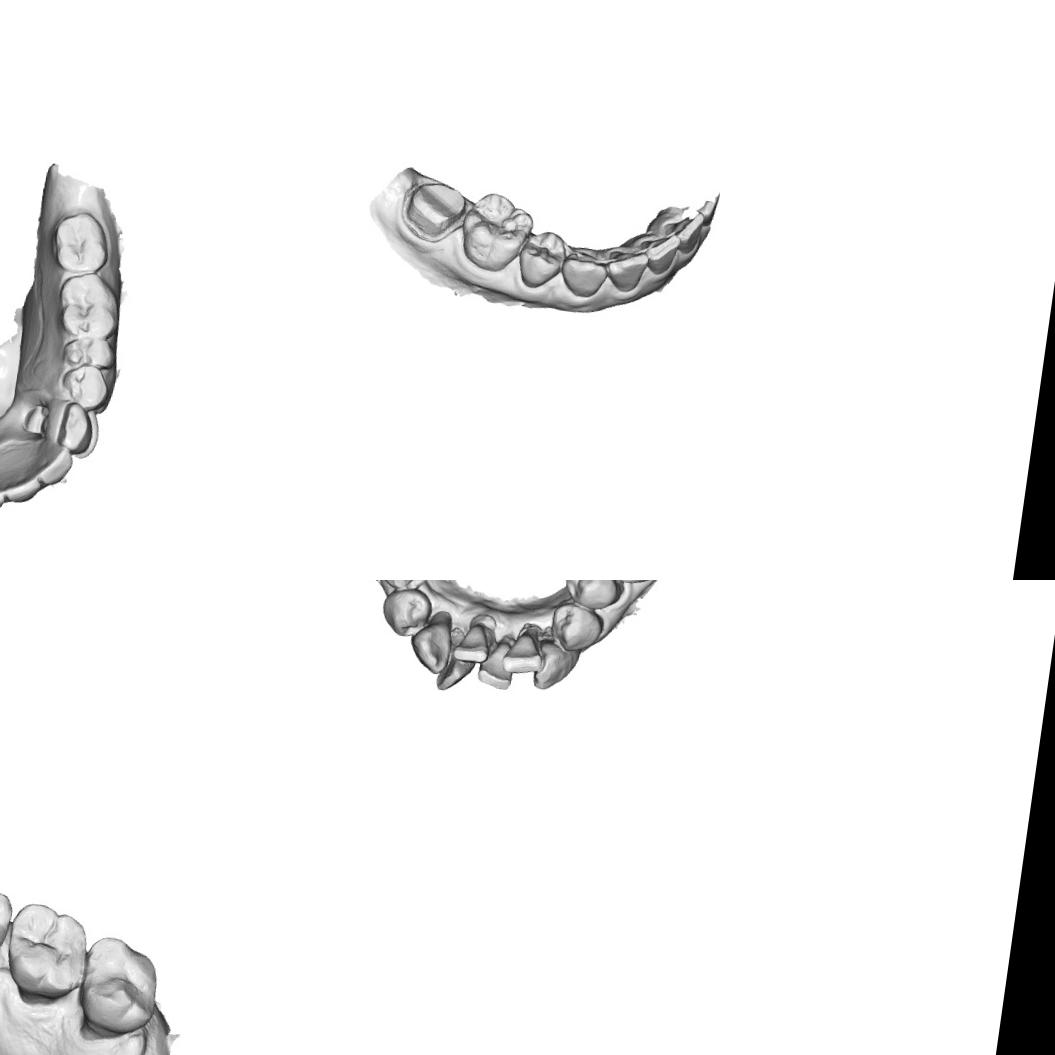canine: (405, 614, 456, 677), (530, 637, 582, 696), (557, 247, 612, 302), (51, 398, 100, 458)
crown: (398, 177, 470, 246)
incisor: (22, 440, 78, 492), (602, 244, 653, 296), (632, 229, 683, 278), (475, 636, 518, 692), (500, 629, 546, 678), (662, 207, 706, 256), (452, 619, 494, 666), (0, 467, 45, 508), (434, 657, 476, 695), (0, 479, 10, 520)
molar: (70, 929, 168, 1036), (0, 897, 94, 1003), (455, 188, 538, 276), (50, 268, 124, 344), (47, 206, 119, 280)
premolar: (514, 226, 571, 294), (548, 600, 606, 656), (56, 329, 119, 379), (379, 584, 435, 640), (58, 362, 114, 414), (561, 580, 625, 613), (0, 881, 18, 965), (374, 580, 434, 595)
